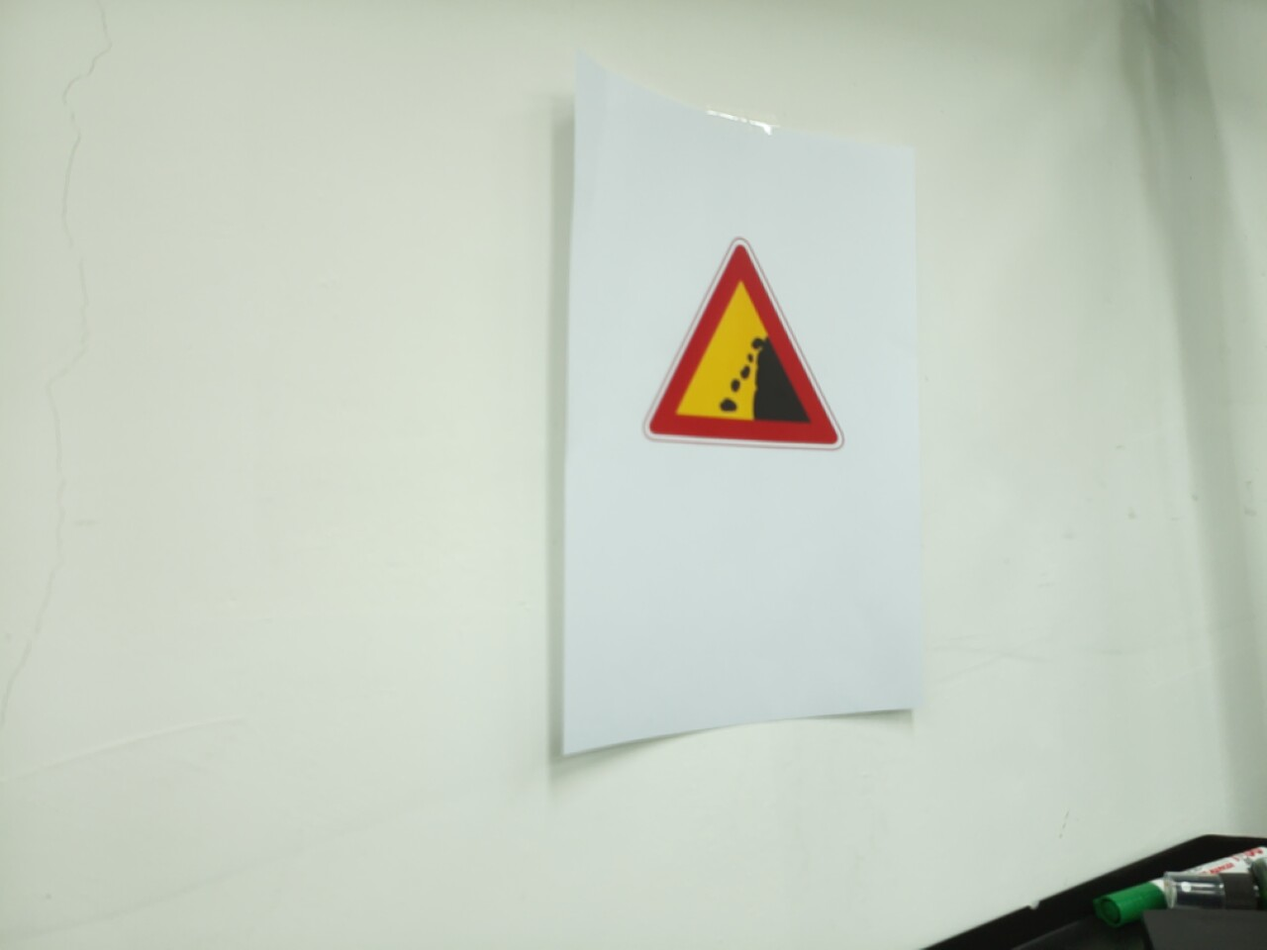falling_rocks: (642, 237, 845, 452)
